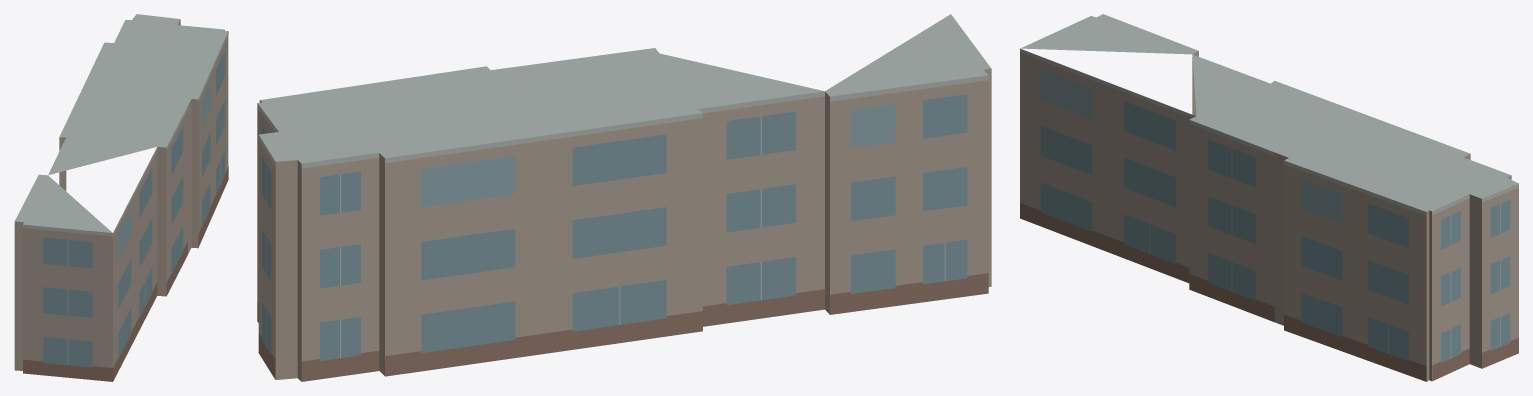
The model's file is survey-upis-32620787.glb.
The picture shows the model from 3 angles, left to right: view 1: azimuth 30°, elevation 25°; view 2: azimuth 150°, elevation 25°; view 3: azimuth 270°, elevation 25°; orthographic projection. The views are drawn at different scales.
Parts seen in each view (by area): view 1: survey-upis-32620787.tmp; view 2: survey-upis-32620787.tmp; view 3: survey-upis-32620787.tmp.
Part boxes in pixels (bbox=[...]): survey-upis-32620787.tmp: bbox=[14, 14, 228, 381]; survey-upis-32620787.tmp: bbox=[257, 14, 991, 381]; survey-upis-32620787.tmp: bbox=[1020, 14, 1518, 381].
Bounding box in the file's own units: 26.5 × 10.6 × 28.21.
